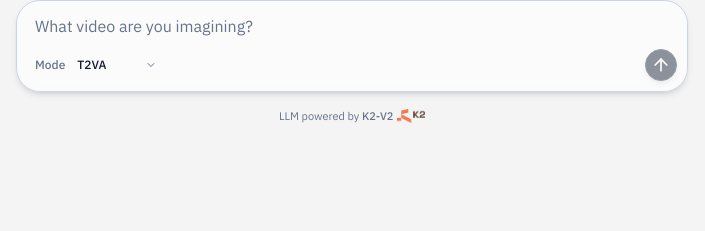
Test case: ChatBar generation mode selection › closes the menu with Escape and restores focus to Mode
Click the dropdown named "Generation mode" at (117, 65), box [69,49,165,81]
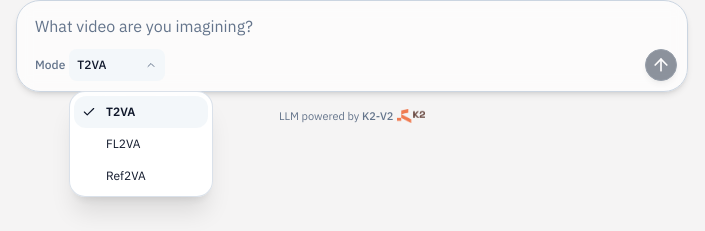
Result: the list is shown at [69,91,213,197]
Press Escape
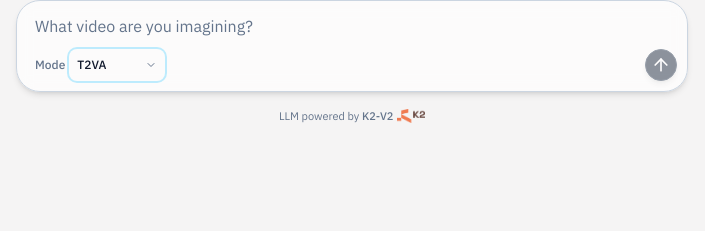
Result: the list is gone
